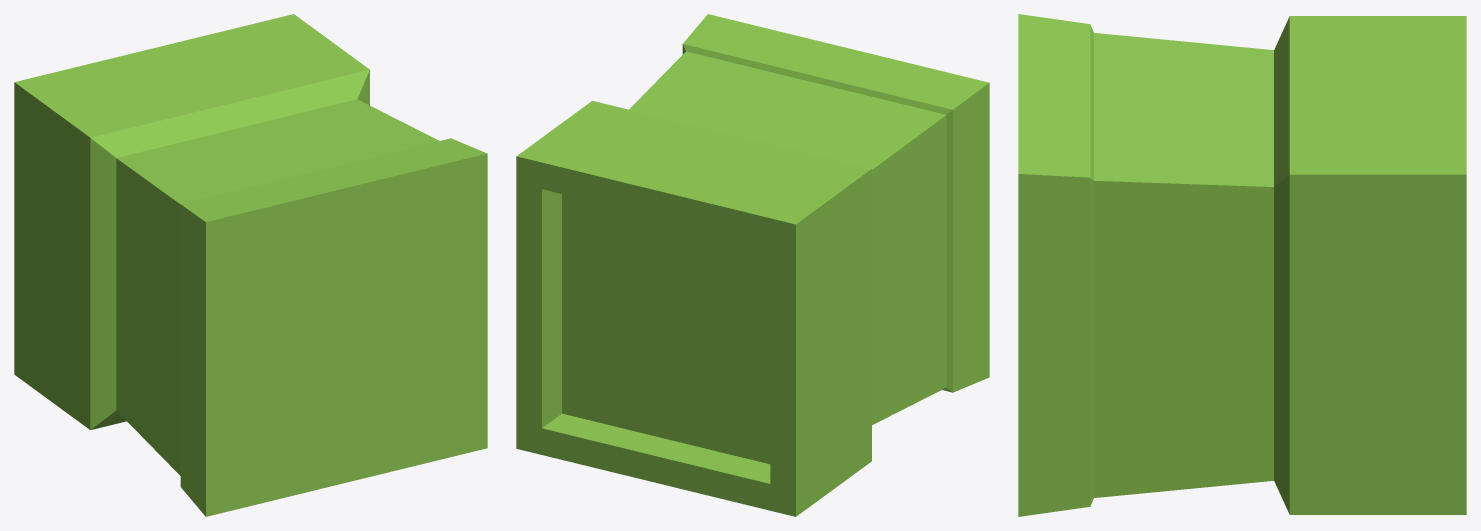
File: archer.fbx
3 renders of one model, left to right at view 1: azimuth 30°, elevation 25°; view 2: azimuth 150°, elevation 25°; view 3: azimuth 270°, elevation 25°, orthographic. The views are drawn at different scales.
Parts seen in each view (by area): view 1: archer; view 2: archer; view 3: archer.
Part boxes in pixels (x1,y1,x2,y2): archer: [14, 14, 487, 516]; archer: [516, 14, 989, 516]; archer: [1018, 14, 1466, 516].
Bounding box in the file's own units: 237 × 200 × 200.
